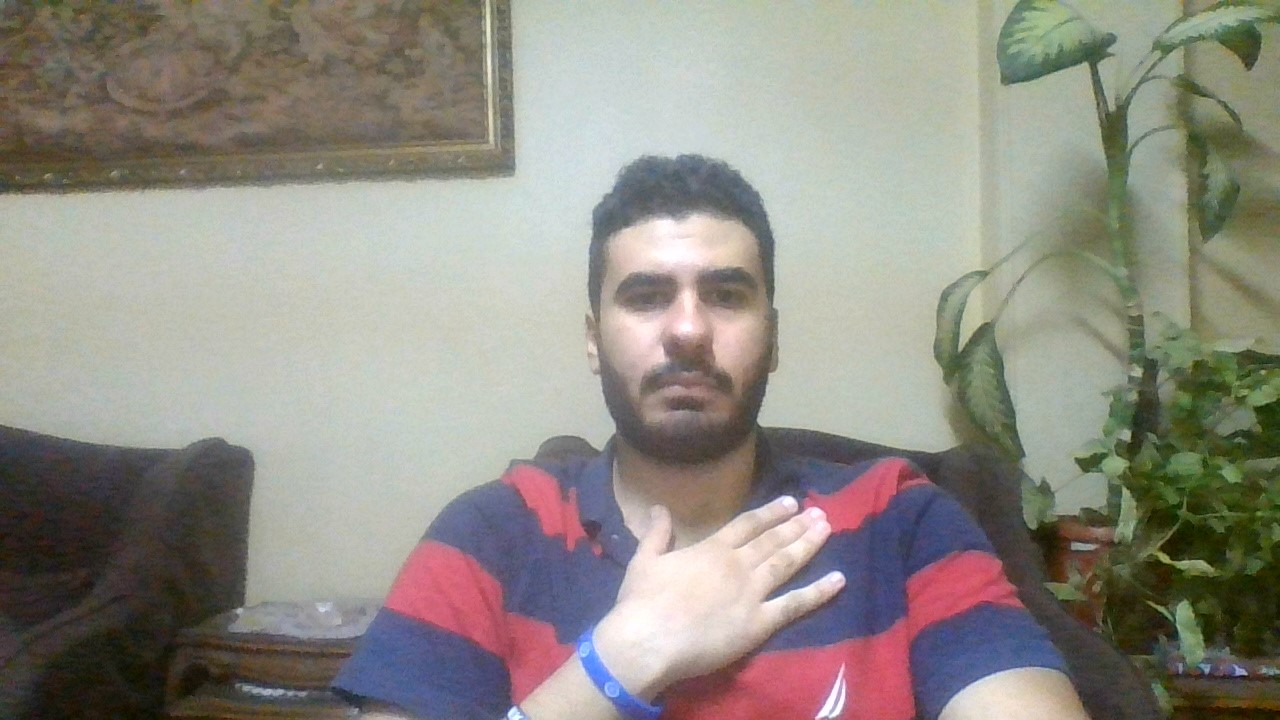please: (624, 479, 853, 684)
